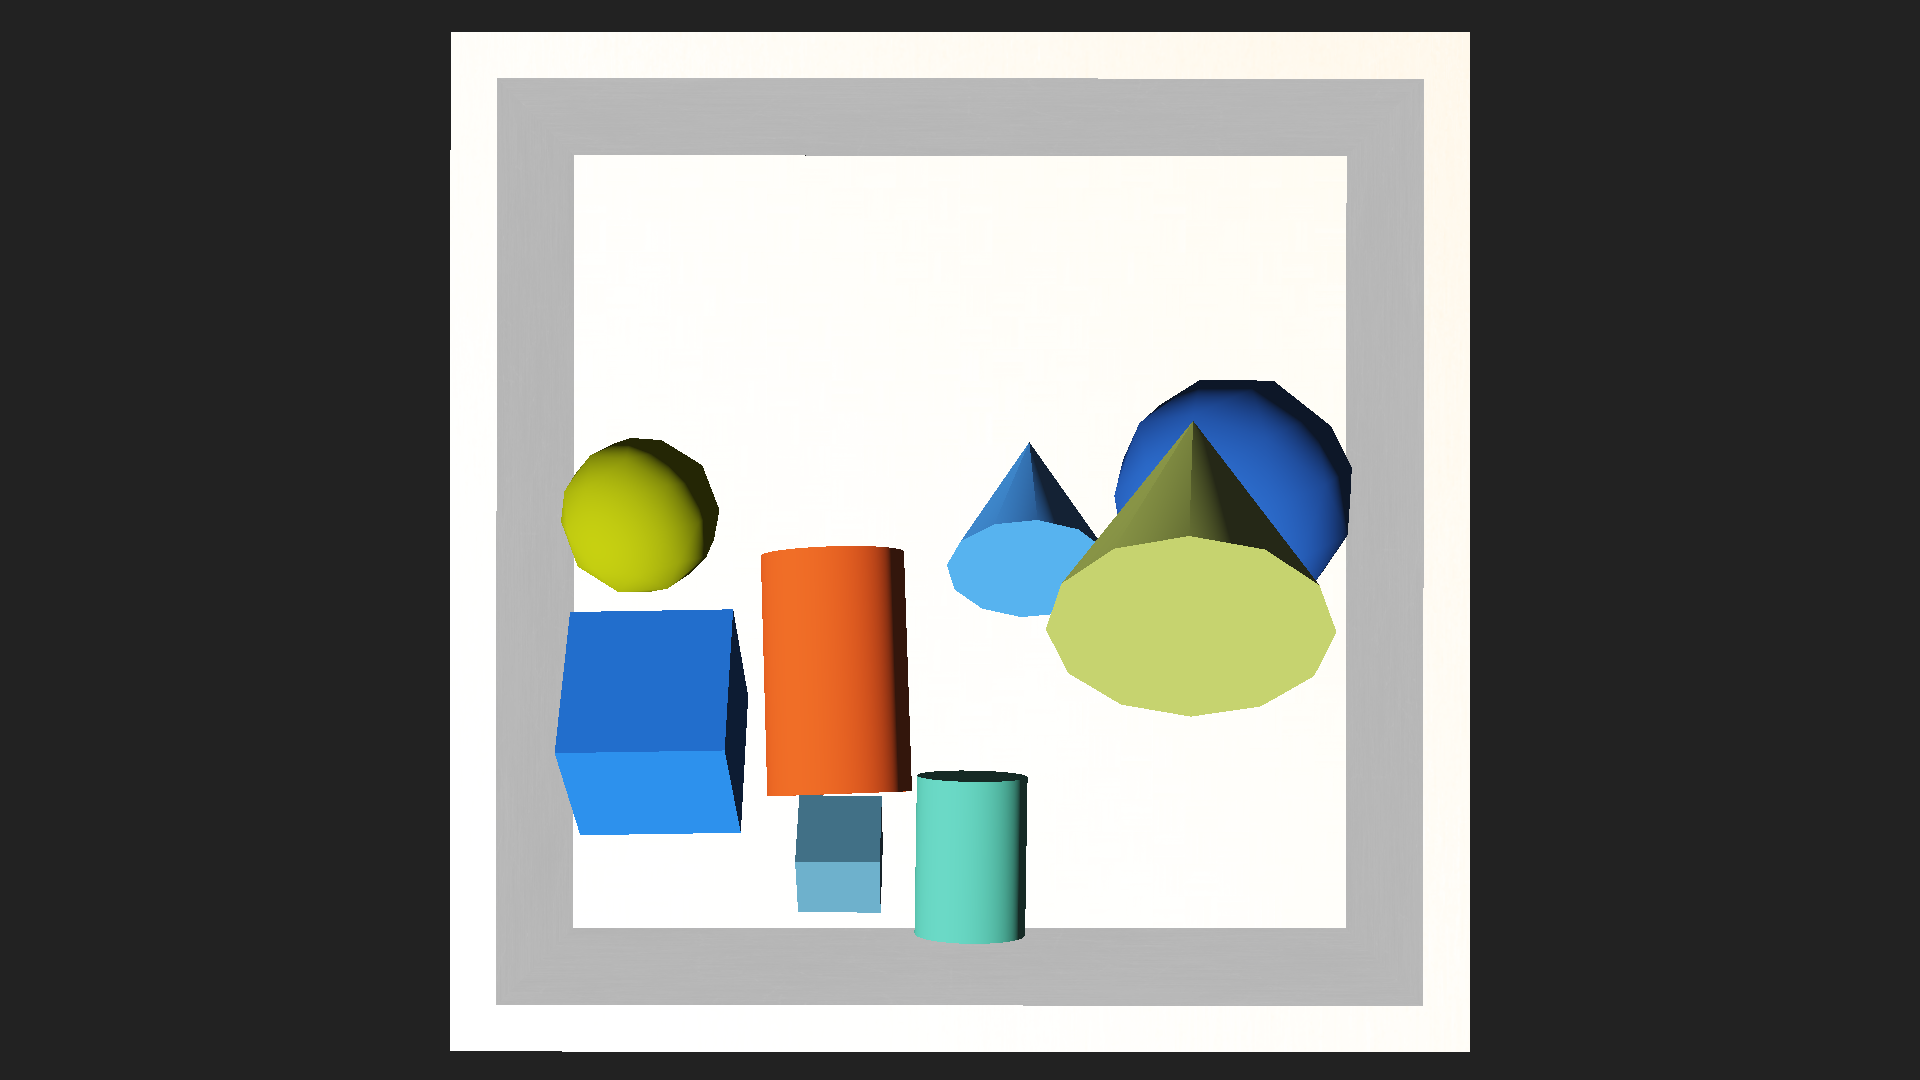3: (553, 604, 749, 852), (793, 789, 884, 922)
cone: (752, 545, 913, 808), (913, 769, 1029, 943)
cylinder: (1025, 302, 1389, 736), (948, 384, 1116, 620)
sphere: (559, 435, 719, 595)
